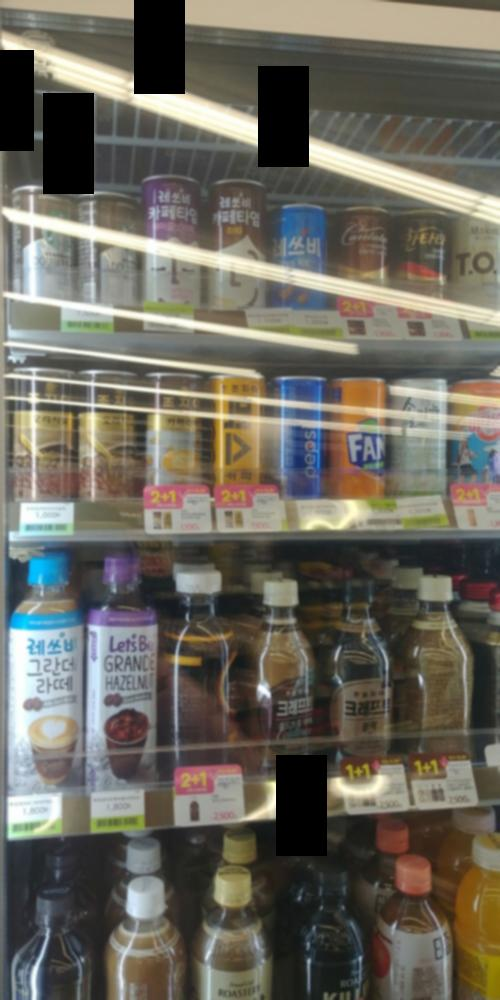georgiacraft_black: (313, 563, 398, 774)
letsbe_grande_hazelnut: (91, 543, 167, 798)
